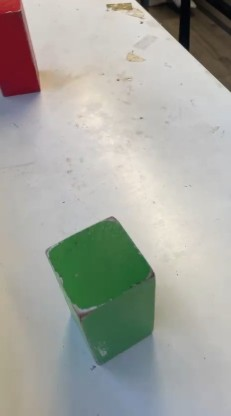green: (55, 227, 150, 355)
